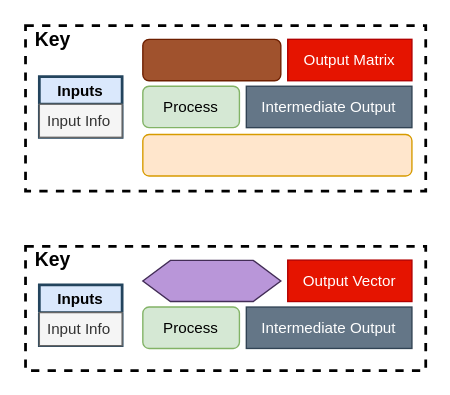
Image size: 450x395. Some labels were removed from this diagram. Each missing label, with the centre of its shape:
"External NorMITs Demand Tool" goes at [276,154].
"External Process" goes at [211,59].
"Output report" goes at [211,280].
